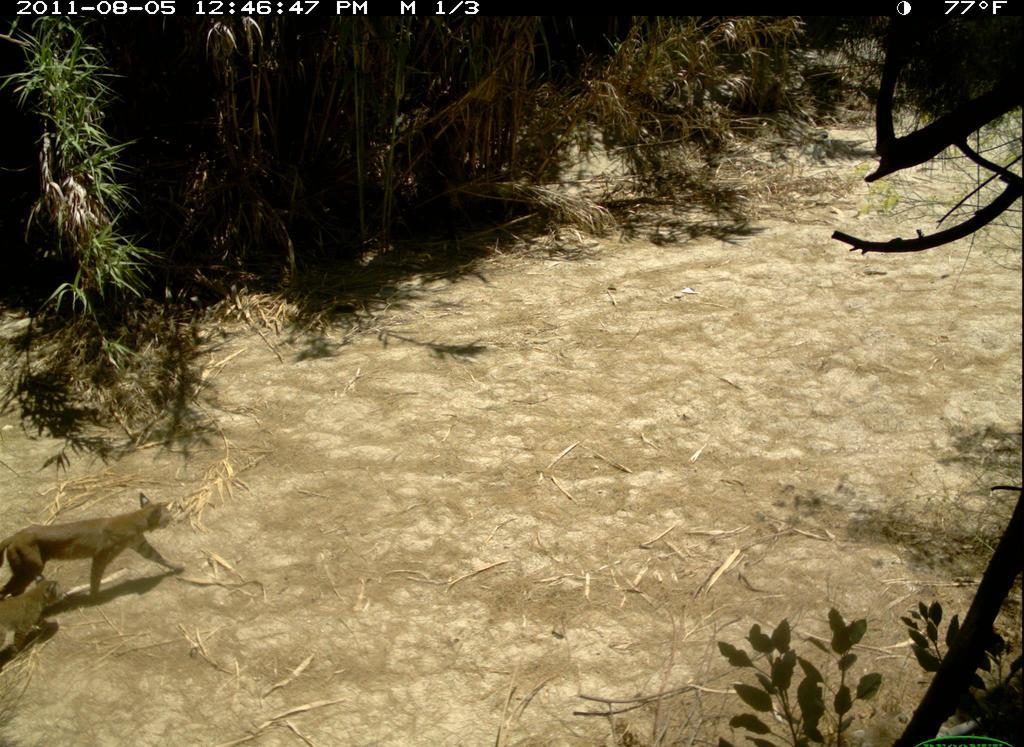bobcat: (3, 486, 190, 641)
